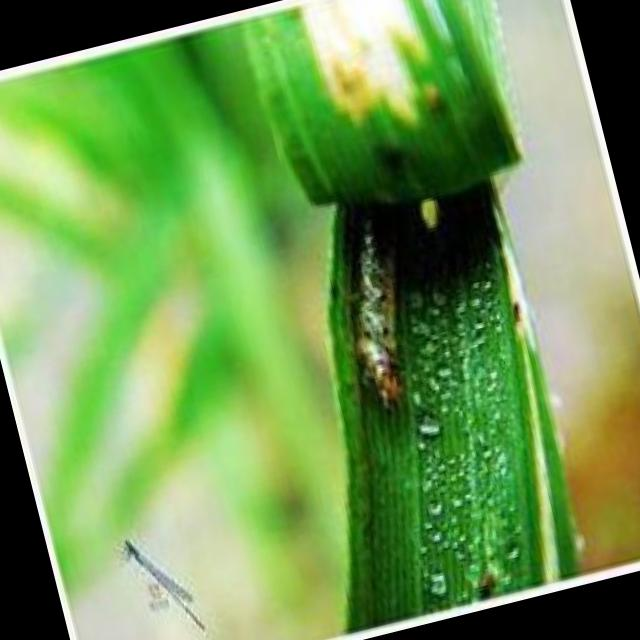leaf-folder: (288, 179, 462, 423)
